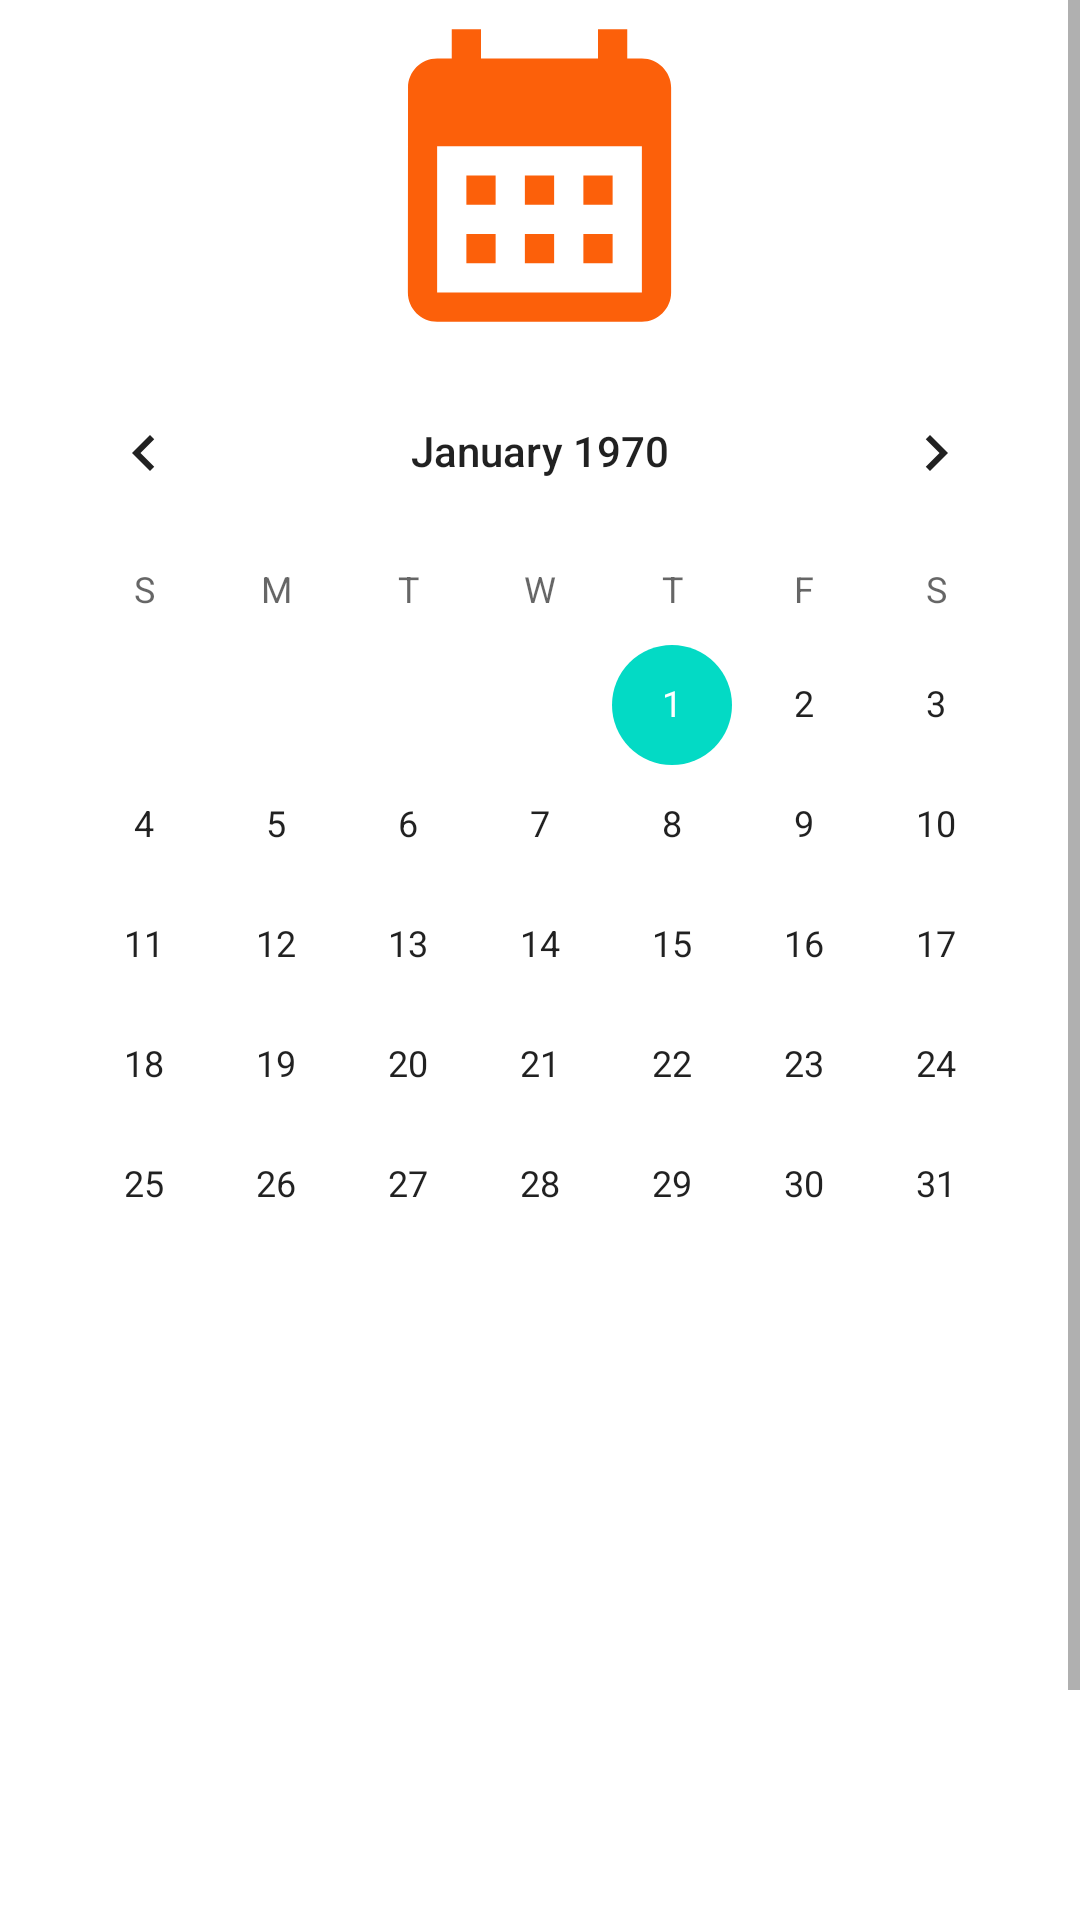

Screen size 1080*1920. Icon name, then its box in pixels as (x1, y1, x2, y2):
calendar month: (407, 29, 672, 322)
